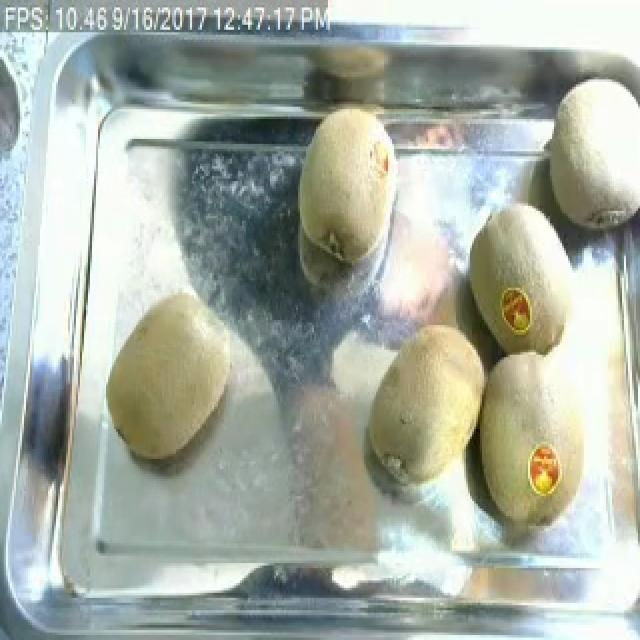Fruit: (264, 364, 400, 576), (96, 280, 242, 472), (460, 335, 608, 523), (360, 315, 496, 499), (458, 196, 586, 367), (288, 104, 406, 273), (534, 67, 640, 243)
